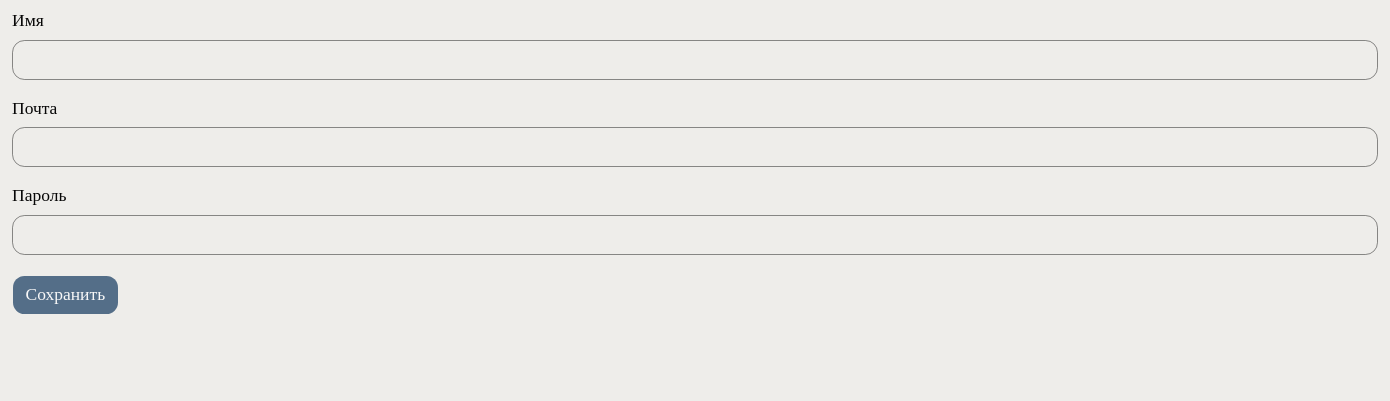
Scenario: useFormAction › resetOnSuccess: форма создания очищается, пароль не висит в странице
This screenshot has width=1390, height=401.
Type "Анна" into the field labelled "Имя" at (695, 60), box [12,40,1378,80]
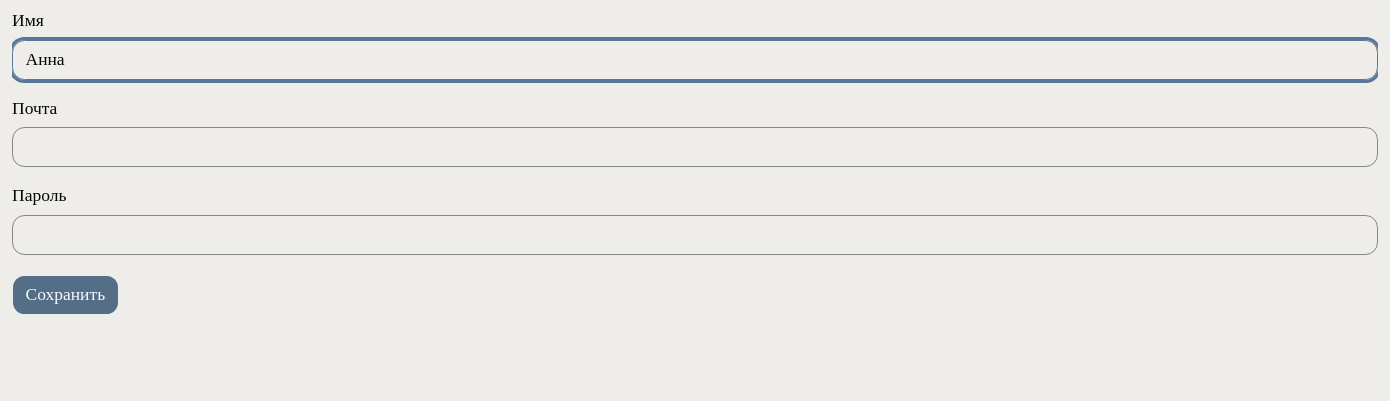
Type "секрет" into the password field labelled "Пароль" at (695, 234), box [12,214,1378,254]
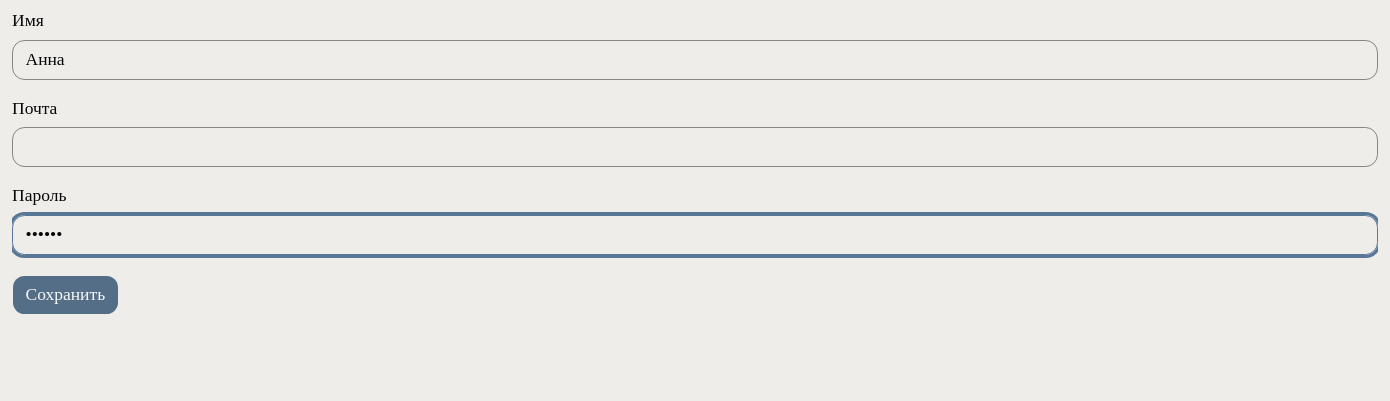
Click the button "Сохранить" at (65, 294), box [12,274,119,314]
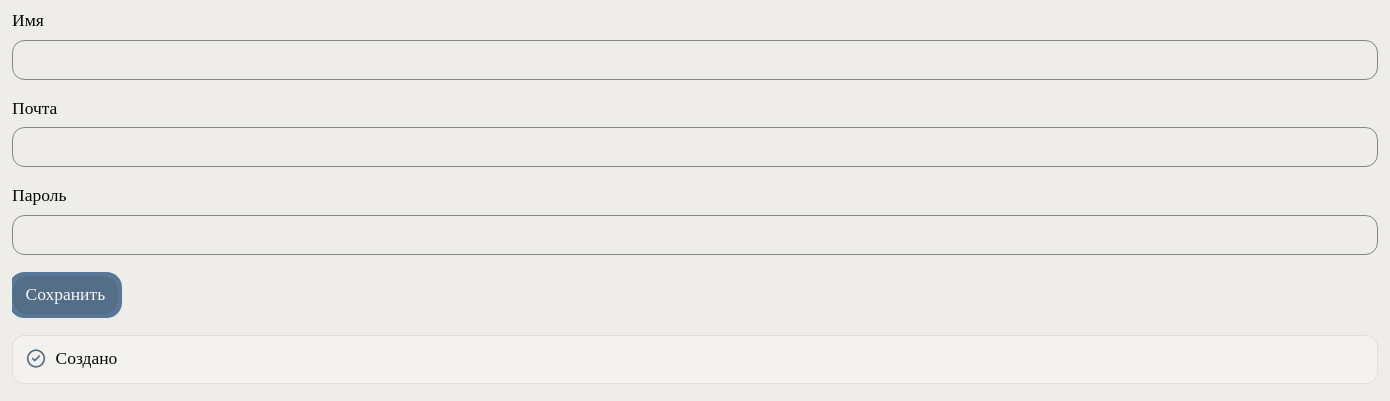
expect the text "Создано" is shown: met, box [56,348,117,368]
expect the field labelled "Имя" is empty: met, box [12,40,1378,80]
expect the password field labelled "Пароль" is empty: met, box [12,214,1378,254]
